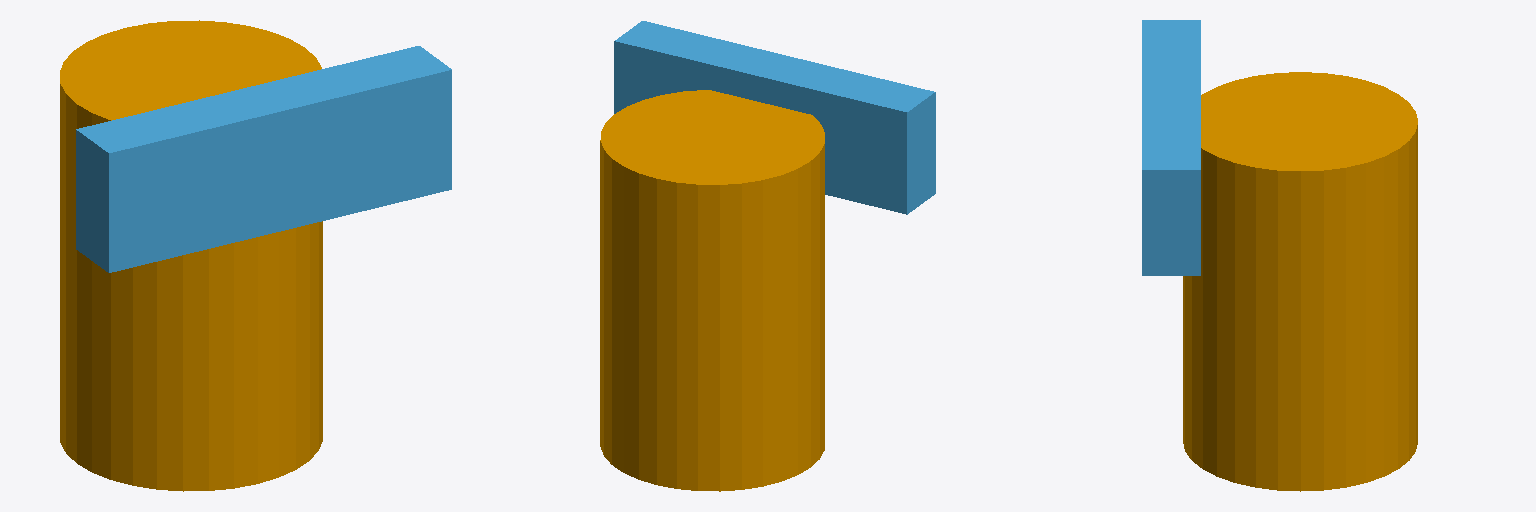
URDF robot description (origins):
<?xml version="1.0"?>
<robot name="origins">

 <link name="base_link">
   <visual>
     <geometry>
       <cylinder length="0.6" radius="0.2"/>
     </geometry>
   </visual>
 </link>

 <link name="right_leg">
   <visual>
     <geometry>
       <box size="0.6 0.1 0.2"/>
     </geometry>
   </visual>
 </link>

 <joint name="base_to_right_leg" type="fixed">
   <parent link="base_link"/>
   <child link="right_leg"/>
   <origin xyz="0 -0.22 0.25"/>
 </joint>

</robot>

--- What the picture shows (computed from the rendered views, not written in the file) ---
Views: 3 orthographic renders of the robot side by side, from view 1: azimuth 30°, elevation 25°; view 2: azimuth 150°, elevation 25°; view 3: azimuth 270°, elevation 25°.
Robot: origins — 2 links, 1 joints (1 fixed); root link base_link; default pose: all joints at 0.
Links seen in each view (by area): view 1: base_link, right_leg; view 2: base_link, right_leg; view 3: base_link, right_leg.
Boxes of the visible links, bbox=[...] form: base_link: bbox=[60, 20, 322, 491]; right_leg: bbox=[76, 46, 451, 272]; base_link: bbox=[600, 90, 824, 491]; right_leg: bbox=[614, 21, 935, 214]; base_link: bbox=[1183, 72, 1417, 491]; right_leg: bbox=[1142, 20, 1200, 275].
Bounding box of the posed robot: 0.6 × 0.47 × 0.65 m (x, y, z).
Geometry: primitives only (box / cylinder / sphere), no mesh files.